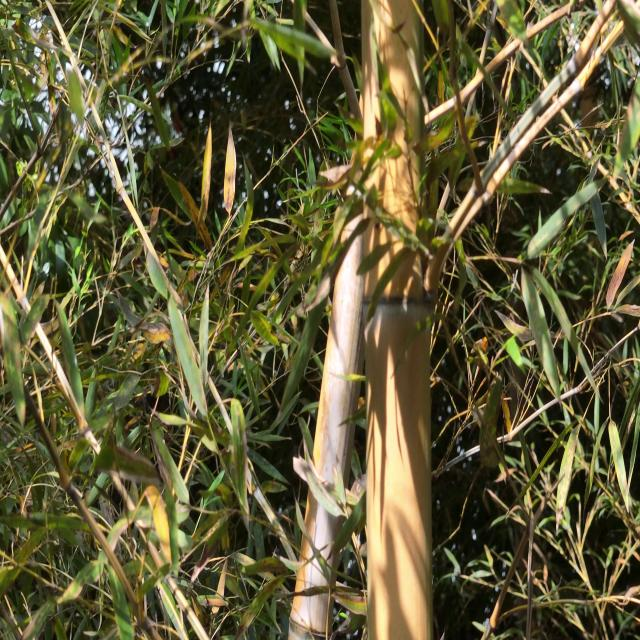Bamboo-shoots: (289, 0, 424, 640)
